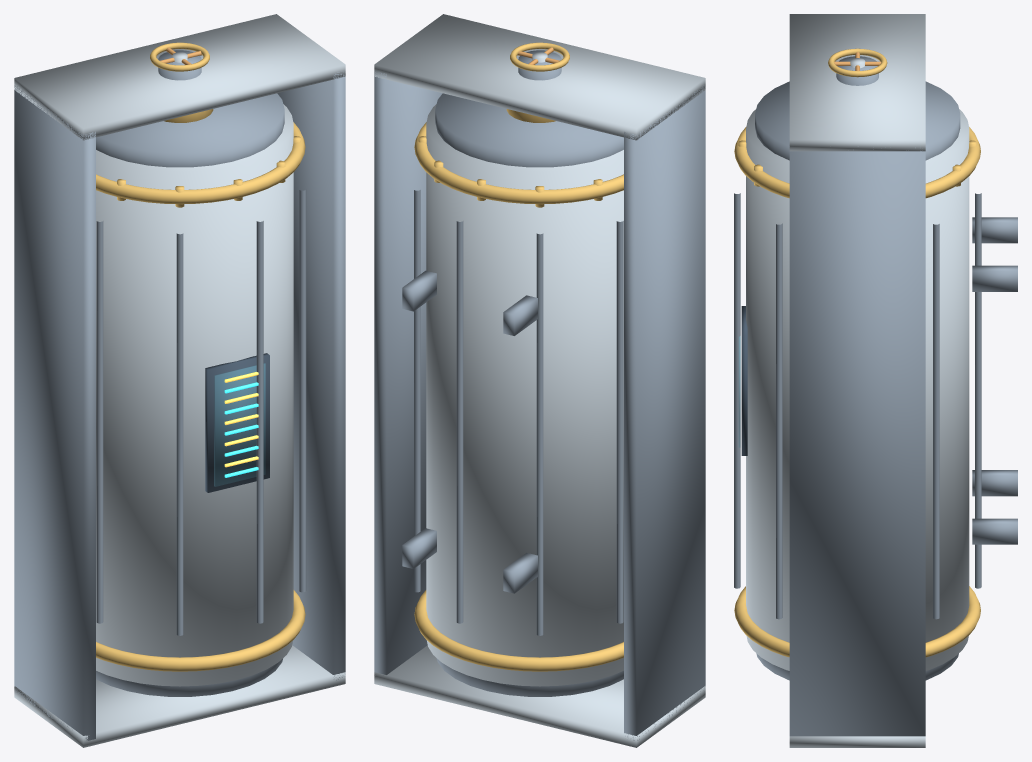
Rendered from 13_L88_DualAdsorberTowerB.glb.
3 renders of one model, left to right at view 1: azimuth 30°, elevation 25°; view 2: azimuth 150°, elevation 25°; view 3: azimuth 270°, elevation 25°, orthographic.
Parts seen in each view (by area): view 1: L87_DualAdsorberTowerB_Part_0000, L87_DualAdsorberTowerB_Part_0001, L87_DualAdsorberTowerB_Part_0002, L87_DualAdsorberTowerB_Part_0003, L87_DualAdsorberTowerB_Part_0004, L87_DualAdsorberTowerB_Part_0009, L87_DualAdsorberTowerB_Part_0006, L87_DualAdsorberTowerB_Part_0005; view 2: L87_DualAdsorberTowerB_Part_0000, L87_DualAdsorberTowerB_Part_0001, L87_DualAdsorberTowerB_Part_0002, L87_DualAdsorberTowerB_Part_0009; view 3: L87_DualAdsorberTowerB_Part_0001, L87_DualAdsorberTowerB_Part_0000, L87_DualAdsorberTowerB_Part_0002, L87_DualAdsorberTowerB_Part_0003, L87_DualAdsorberTowerB_Part_0009.
Part boxes in pixels (<box>): L87_DualAdsorberTowerB_Part_0000: <box>14,14,345,747</box>; L87_DualAdsorberTowerB_Part_0001: <box>14,50,345,740</box>; L87_DualAdsorberTowerB_Part_0002: <box>96,109,305,671</box>; L87_DualAdsorberTowerB_Part_0003: <box>205,353,269,492</box>; L87_DualAdsorberTowerB_Part_0004: <box>214,363,265,486</box>; L87_DualAdsorberTowerB_Part_0009: <box>150,42,209,71</box>; L87_DualAdsorberTowerB_Part_0006: <box>224,372,258,467</box>; L87_DualAdsorberTowerB_Part_0005: <box>224,382,258,477</box>; L87_DualAdsorberTowerB_Part_0000: <box>374,14,705,747</box>; L87_DualAdsorberTowerB_Part_0001: <box>374,50,705,740</box>; L87_DualAdsorberTowerB_Part_0002: <box>414,109,623,671</box>; L87_DualAdsorberTowerB_Part_0009: <box>510,42,569,71</box>; L87_DualAdsorberTowerB_Part_0001: <box>734,56,1017,736</box>; L87_DualAdsorberTowerB_Part_0000: <box>746,14,969,747</box>; L87_DualAdsorberTowerB_Part_0002: <box>734,127,980,657</box>; L87_DualAdsorberTowerB_Part_0003: <box>741,306,747,455</box>; L87_DualAdsorberTowerB_Part_0009: <box>828,48,887,77</box>.
Size of the model in its own units: 2.08 by 4.82 by 1.98.
